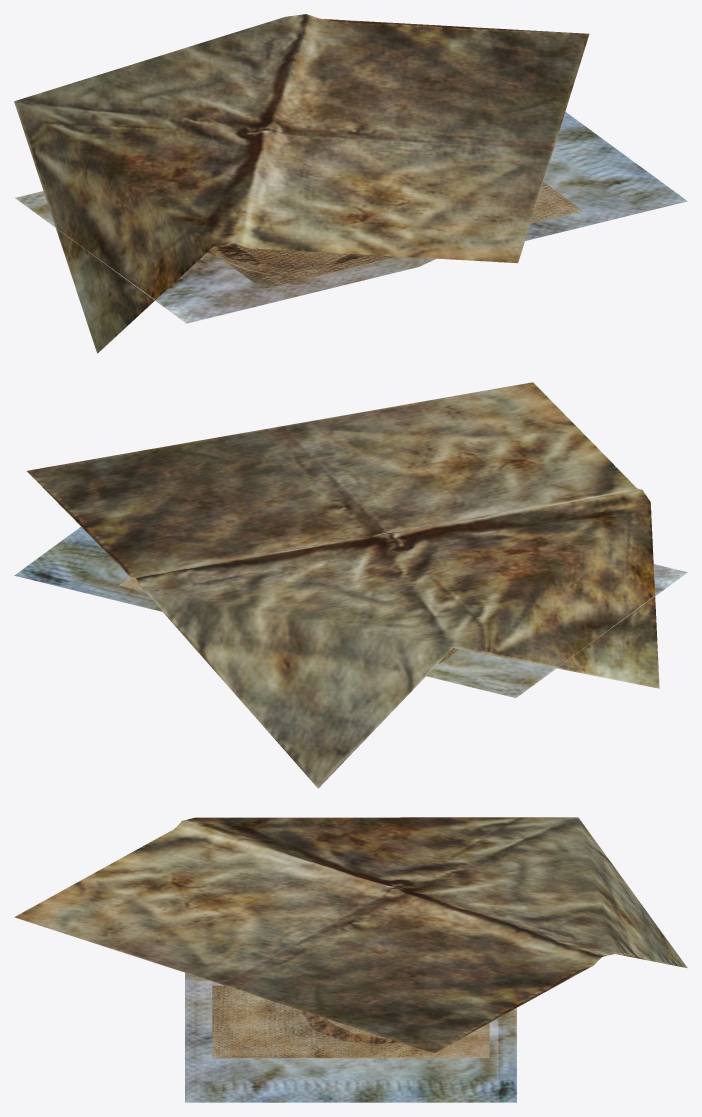
File: handkerchiefs.FBX
The picture shows the model from 3 angles, top to bottom: view 1: azimuth 30°, elevation 25°; view 2: azimuth 150°, elevation 25°; view 3: azimuth 270°, elevation 25°; orthographic projection. The views are drawn at different scales.
Visible parts, largest first — view 1: handkerchief_03, handkerchief_02, handkerchief_01; view 2: handkerchief_03, handkerchief_02; view 3: handkerchief_03, handkerchief_02, handkerchief_01.
Part boxes in pixels (x1,y1,x2,y2): handkerchief_03: (14,14,589,353); handkerchief_02: (15,112,687,323); handkerchief_01: (209,182,582,288); handkerchief_03: (27,382,659,788); handkerchief_02: (14,527,687,697); handkerchief_03: (14,817,687,1053); handkerchief_02: (185,973,516,1102); handkerchief_01: (212,985,489,1058).
Size of the model in its own units: 0.2475 by 0.0571 by 0.2658.
